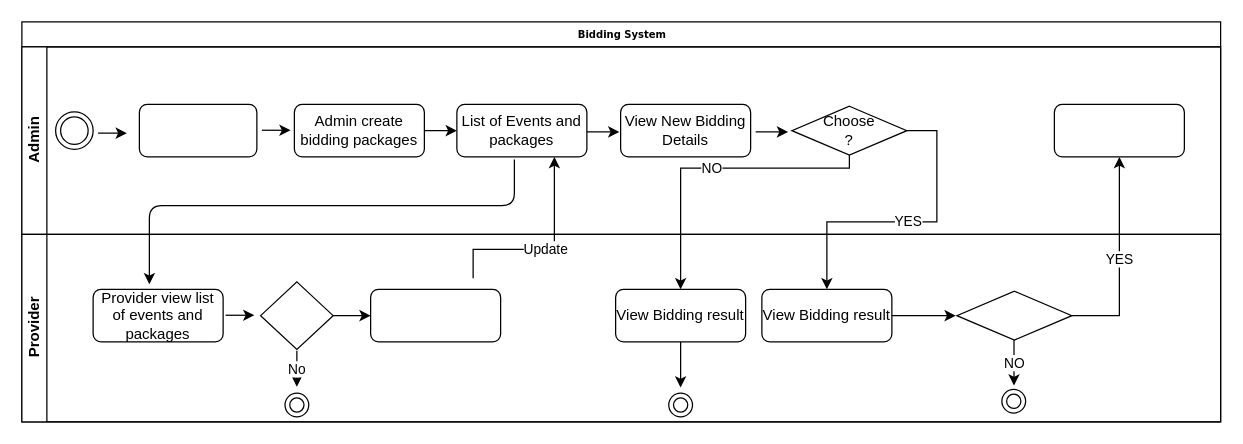
The diagram is 1243 pixels wide and 444 high, and some of its shapes have lost their labels. Each missing label, with the centre of its shape:
Accept ?: the point at 1014,315
Admin create Events: the point at 197,130
Can Bid ?: the point at 296,315
Payment Process: the point at 1118,130
Provider Submit bidding details: the point at 435,315
